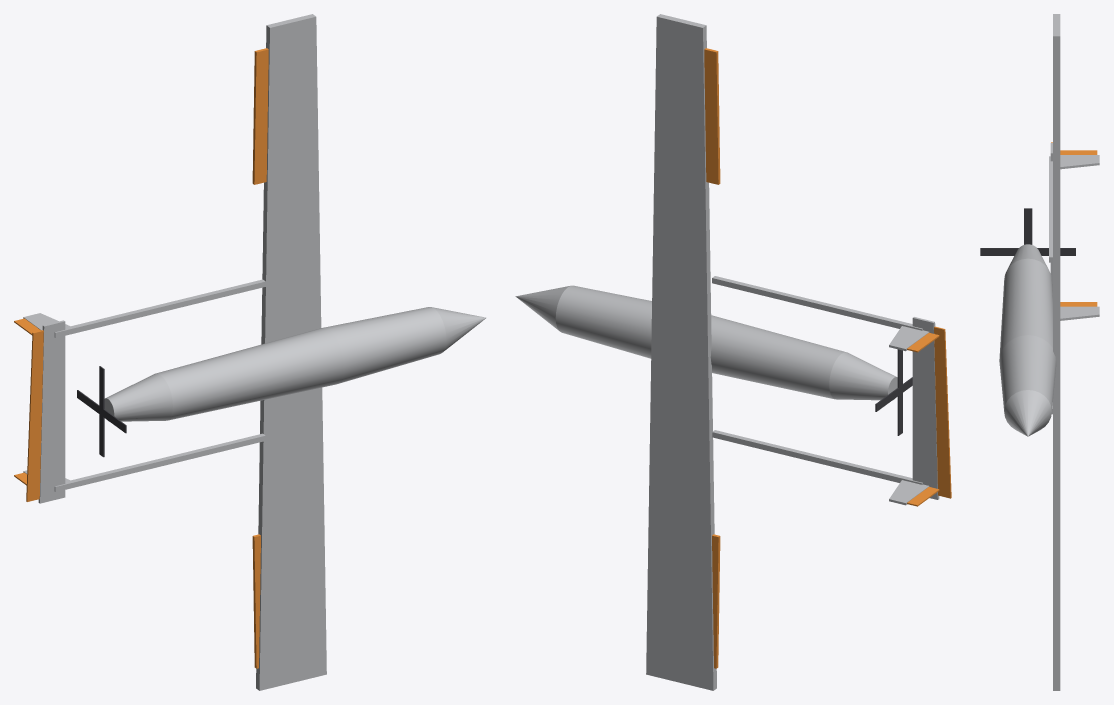
3 renders of one model, left to right at view 1: azimuth 30°, elevation 25°; view 2: azimuth 150°, elevation 25°; view 3: azimuth 270°, elevation 25°, orthographic.
Parts seen in each view (by area): view 1: wing, fuselage, tailplane, elevator, aileron_r, prop, aileron_l; view 2: wing, fuselage, tailplane, elevator, aileron_r, fin, aileron_l, prop; view 3: fuselage, wing, fin, prop, rudder.
Part boxes in pixels (<box>): wing: <box>54,14,326,690</box>; fuselage: <box>104,307,486,421</box>; tailplane: <box>38,320,65,503</box>; elevator: <box>26,330,43,501</box>; aileron_r: <box>252,48,268,184</box>; prop: <box>77,366,126,457</box>; aileron_l: <box>252,534,260,668</box>; wing: <box>646,14,922,690</box>; fuselage: <box>515,285,897,400</box>; tailplane: <box>912,317,939,499</box>; elevator: <box>934,326,951,498</box>; aileron_r: <box>704,48,720,184</box>; fin: <box>889,326,929,505</box>; aileron_l: <box>712,534,720,668</box>; prop: <box>875,349,912,435</box>; fuselage: <box>999,244,1056,436</box>; wing: <box>1049,14,1060,690</box>; fin: <box>1060,155,1099,320</box>; prop: <box>980,208,1075,255</box>; rudder: <box>1060,150,1097,306</box>.
Size of the model in its own units: 2.13 by 3 by 0.5.
